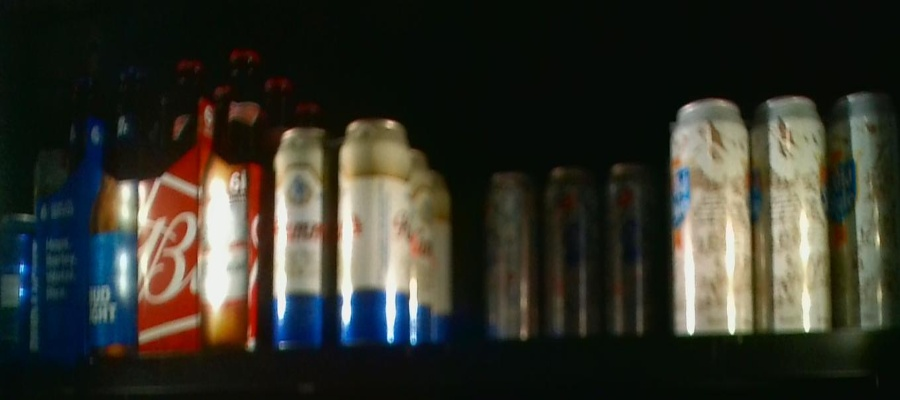bottle: (674, 97, 900, 330), (136, 39, 266, 363), (27, 27, 136, 355), (480, 162, 660, 331), (277, 122, 409, 349)
